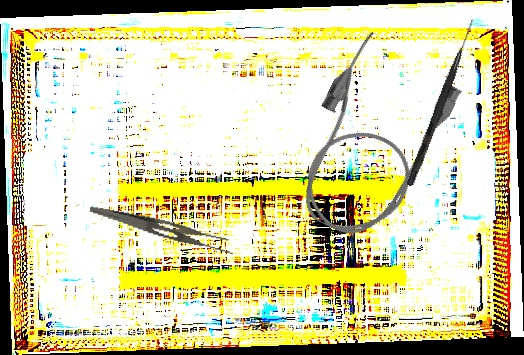Cannula: (273, 26, 468, 253)
Dressing Forceps: (86, 205, 237, 257)
Hook Surgical: (406, 17, 476, 188)
